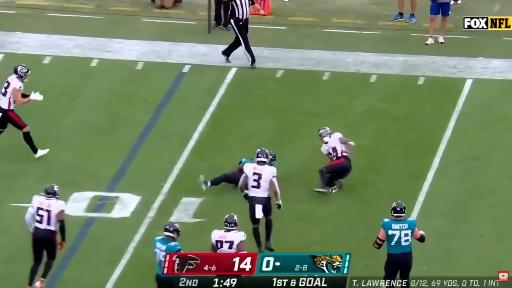Helmet: (14, 65, 30, 81), (164, 222, 180, 238), (254, 148, 270, 163), (42, 184, 59, 198), (391, 201, 406, 216), (224, 214, 238, 229), (319, 127, 332, 139), (268, 151, 277, 166), (323, 137, 330, 143)
Jersey: (382, 219, 416, 253), (31, 196, 65, 230), (244, 163, 276, 197), (154, 237, 181, 275), (0, 75, 23, 109), (211, 230, 246, 252), (321, 133, 346, 160), (239, 159, 255, 165), (239, 159, 252, 165)
Player: (0, 65, 49, 157), (239, 149, 282, 252), (374, 201, 425, 287), (25, 184, 65, 287), (315, 128, 354, 192), (154, 222, 181, 287), (200, 159, 253, 189), (211, 214, 246, 252)
